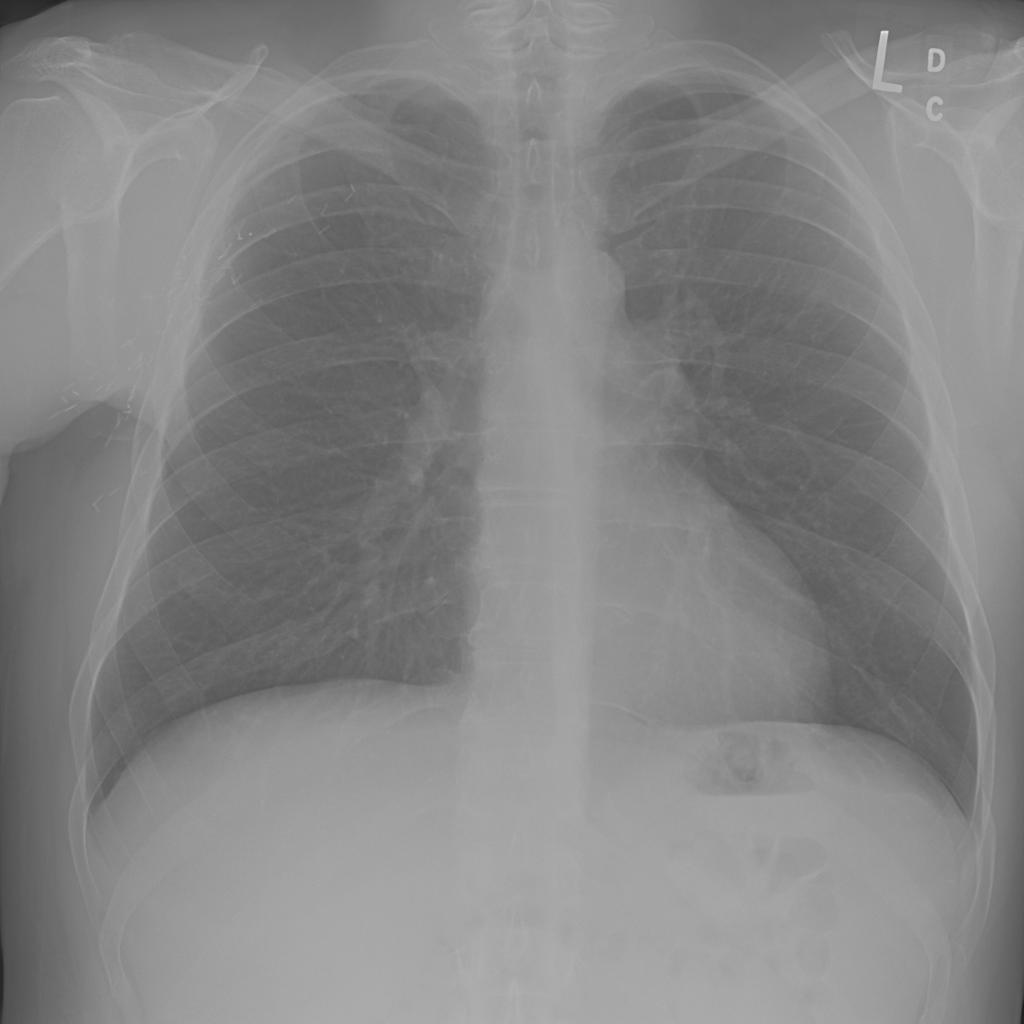Nodule: (150, 326, 184, 365)
